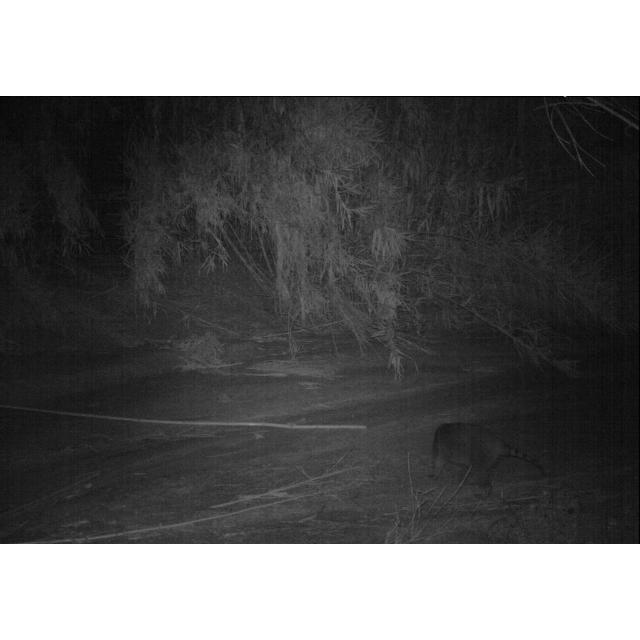animals: (427, 420, 548, 488)
